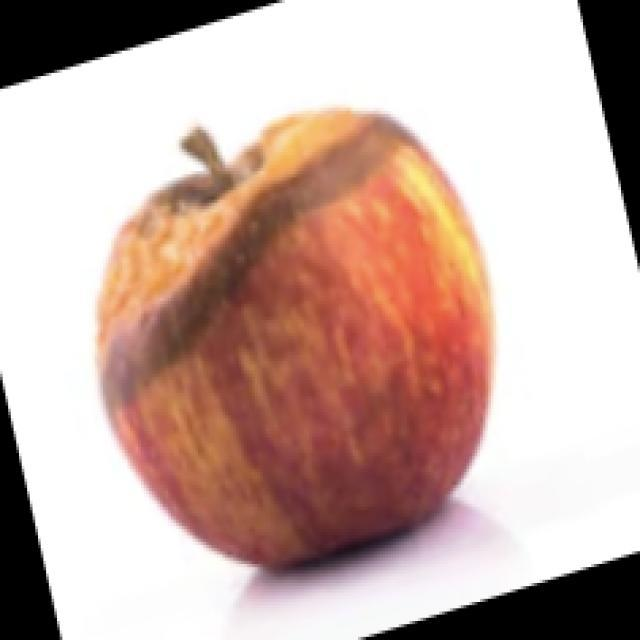Rotten: (98, 95, 507, 575)
